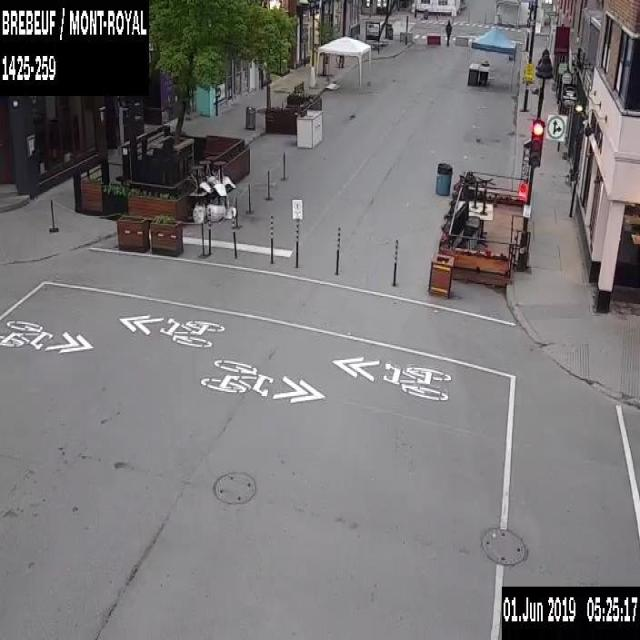pedestrian: (444, 17, 452, 47)
